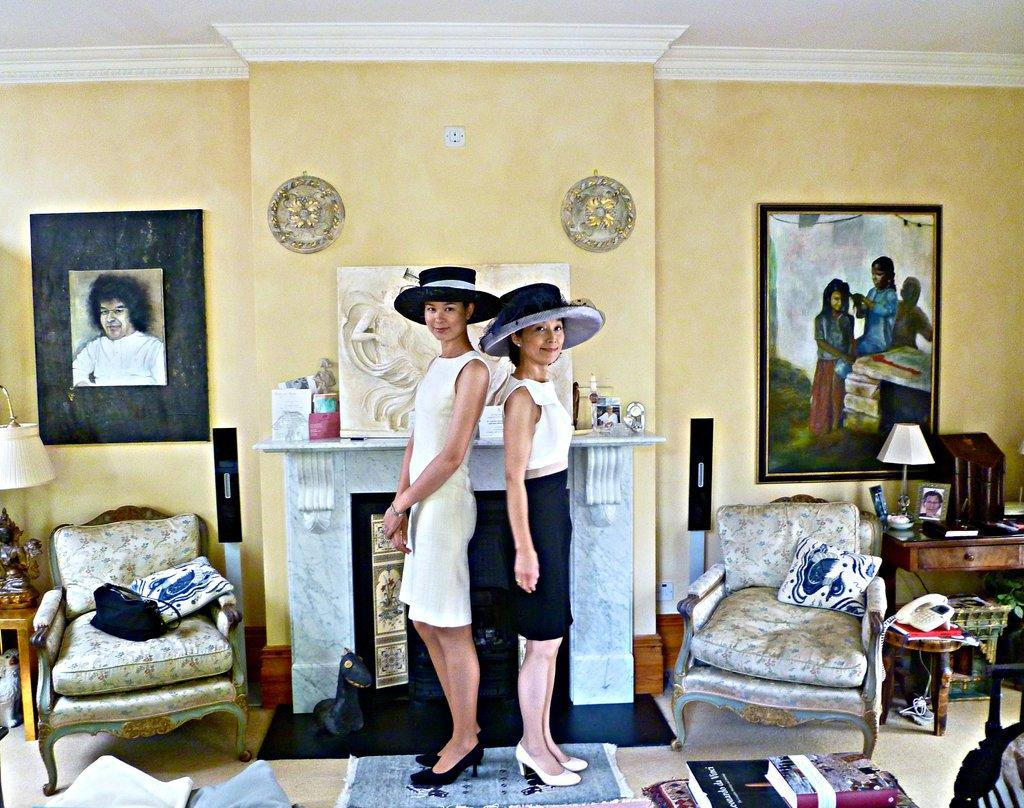Hat: (482, 284, 602, 359), (392, 264, 501, 324)
